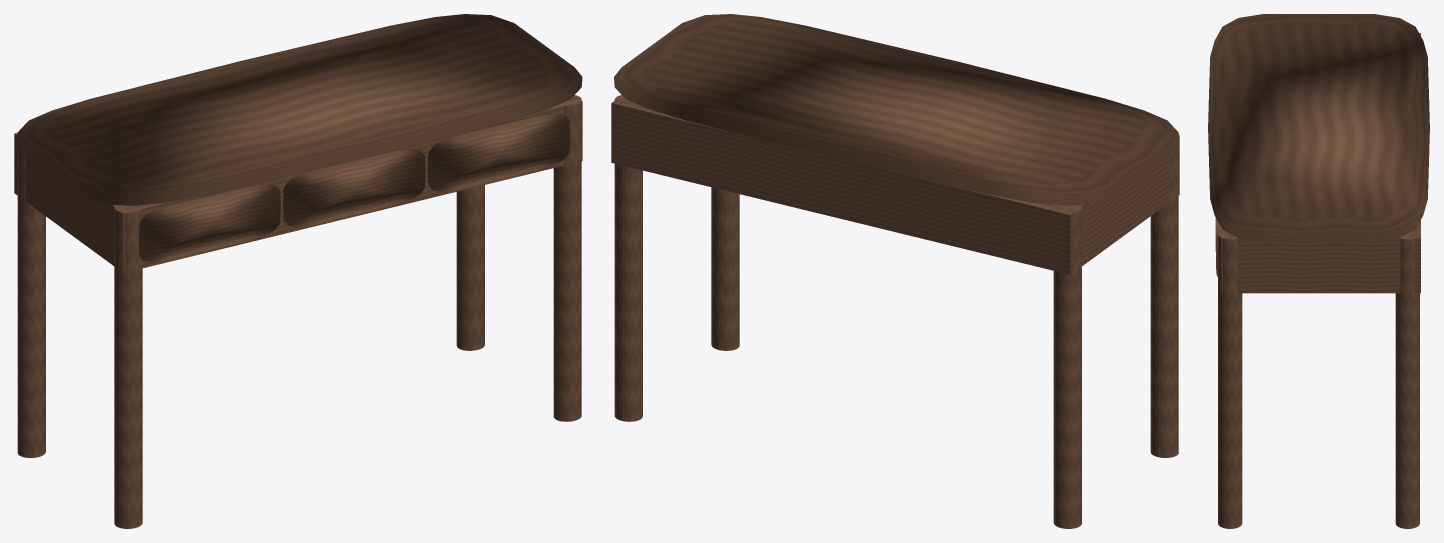
3 renders of one model, left to right at view 1: azimuth 30°, elevation 25°; view 2: azimuth 150°, elevation 25°; view 3: azimuth 270°, elevation 25°, orthographic. The views are drawn at different scales.
Parts seen in each view (by area): view 1: 1 desktop, 6 front_left_leg, 2 drawer_housing, 7 front_right_leg, 8 back_left_leg, 4 center_drawer, 3 left_drawer, 5 right_drawer, 9 back_right_leg; view 2: 1 desktop, 2 drawer_housing, 8 back_left_leg, 6 front_left_leg, 9 back_right_leg, 7 front_right_leg; view 3: 1 desktop, 2 drawer_housing, 7 front_right_leg, 9 back_right_leg.
Boxes of the visible parts, box(x1,y1,x2,y2) form: 1 desktop: box(17, 14, 582, 205); 6 front_left_leg: box(114, 205, 142, 528); 2 drawer_housing: box(14, 95, 582, 272); 7 front_right_leg: box(553, 95, 581, 421); 8 back_left_leg: box(17, 144, 45, 457); 4 center_drawer: box(283, 149, 425, 226); 3 left_drawer: box(138, 184, 280, 262); 5 right_drawer: box(427, 113, 569, 191); 9 back_right_leg: box(456, 185, 484, 350); 1 desktop: box(614, 14, 1179, 205); 2 drawer_housing: box(611, 95, 1179, 274); 8 back_left_leg: box(1053, 205, 1081, 528); 6 front_left_leg: box(1150, 144, 1178, 457); 9 back_right_leg: box(614, 95, 642, 421); 7 front_right_leg: box(711, 187, 739, 350); 1 desktop: box(1208, 14, 1429, 241); 2 drawer_housing: box(1221, 33, 1420, 293); 7 front_right_leg: box(1218, 229, 1242, 528); 9 back_right_leg: box(1395, 230, 1419, 528).
Size of the model in its own units: 1.57 by 1 by 0.66.
1 material, 1 textured.
